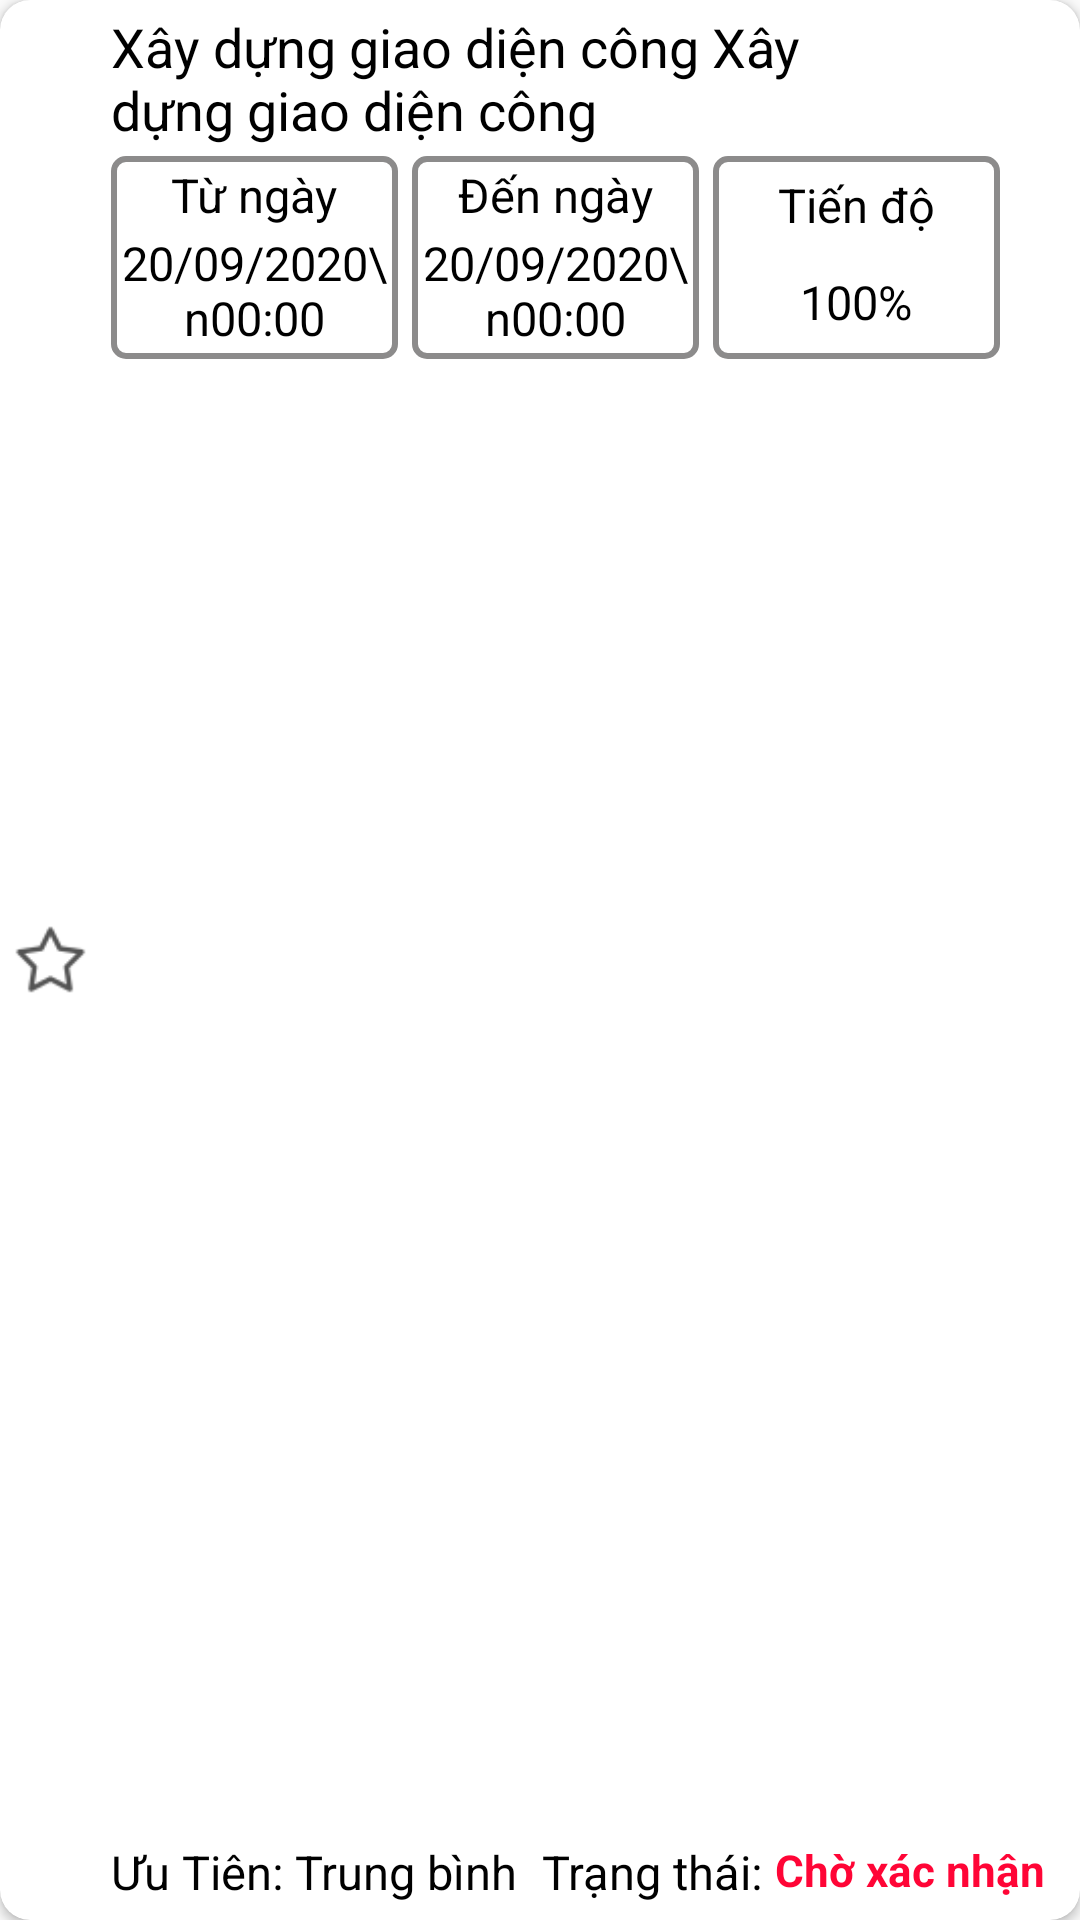

Locate icon controls on the screen. Image size 1080×1920, boxes as [left=x1, top=y1, right=x2, bottom=y2].
star: [left=16, top=927, right=85, bottom=993]
